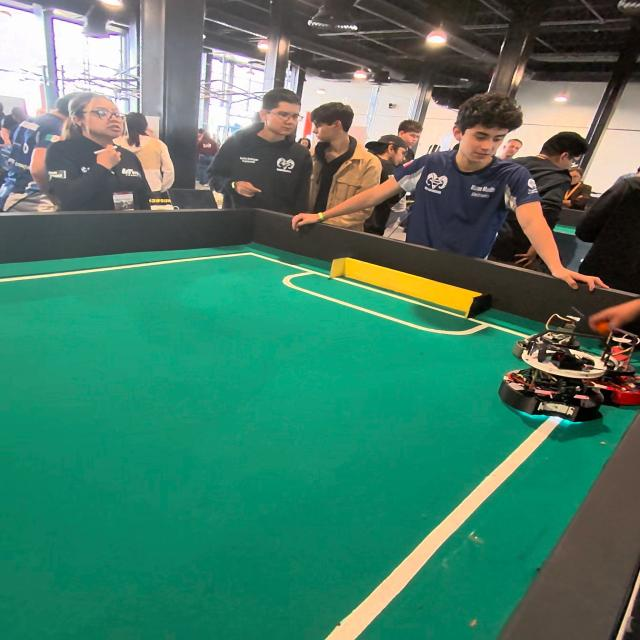Robot: (499, 306, 604, 428), (596, 332, 640, 403)
